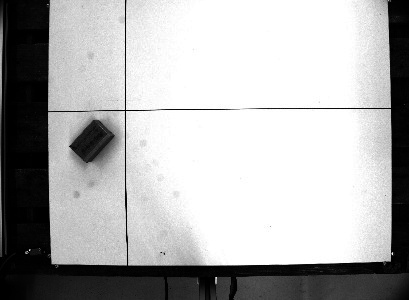b1: (67, 117, 116, 164)
